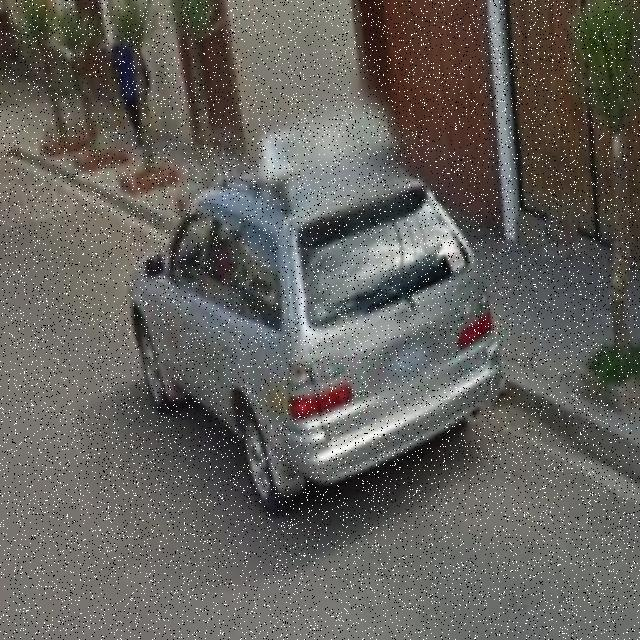cars: (98, 101, 509, 547)
